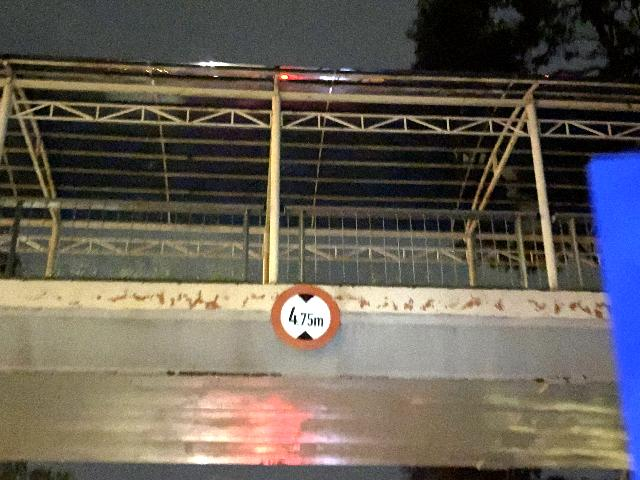han-che-chieu-cao: (272, 283, 340, 350)
